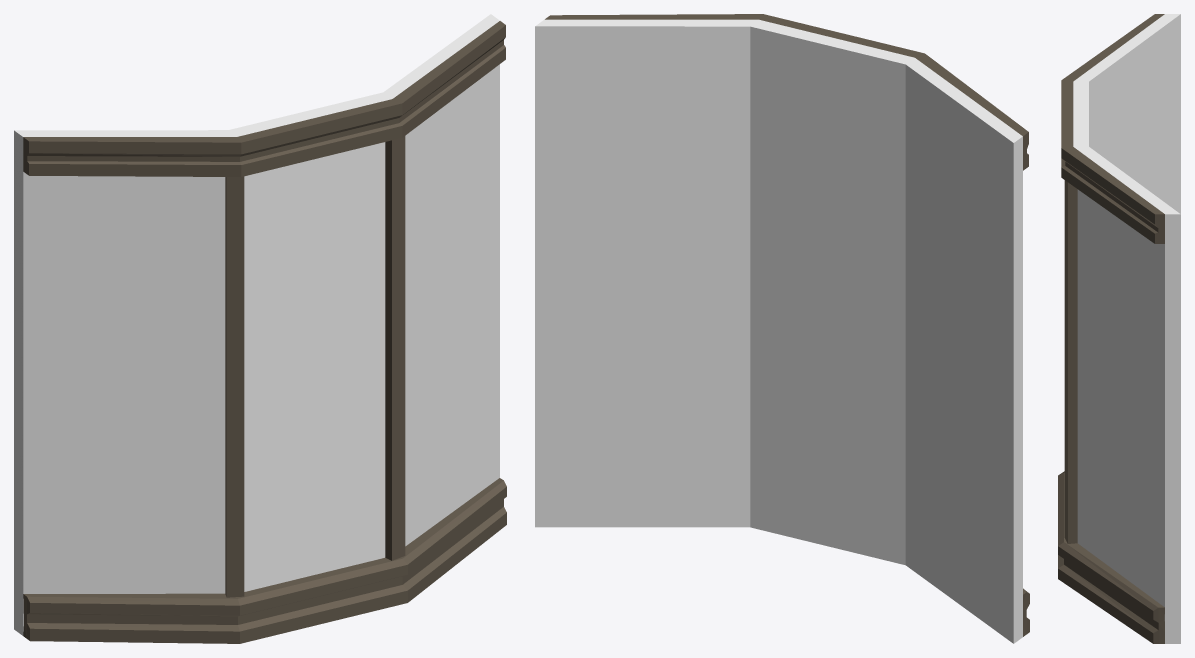
Rendered from WINDOW_01_Balkon_1.fbx.
3 renders of one model, left to right at view 1: azimuth 30°, elevation 25°; view 2: azimuth 150°, elevation 25°; view 3: azimuth 270°, elevation 25°, orthographic. The views are drawn at different scales.
Parts seen in each view (by area): view 1: WINDOW_01_Balkon_1; view 2: WINDOW_01_Balkon_1; view 3: WINDOW_01_Balkon_1.
Boxes of the visible parts, x1=… form: WINDOW_01_Balkon_1: x1=14, y1=14, x2=506, y2=643; WINDOW_01_Balkon_1: x1=535, y1=14, x2=1029, y2=643; WINDOW_01_Balkon_1: x1=1058, y1=14, x2=1180, y2=643.
Bounding box in the file's own units: 300 × 300 × 77.77.
